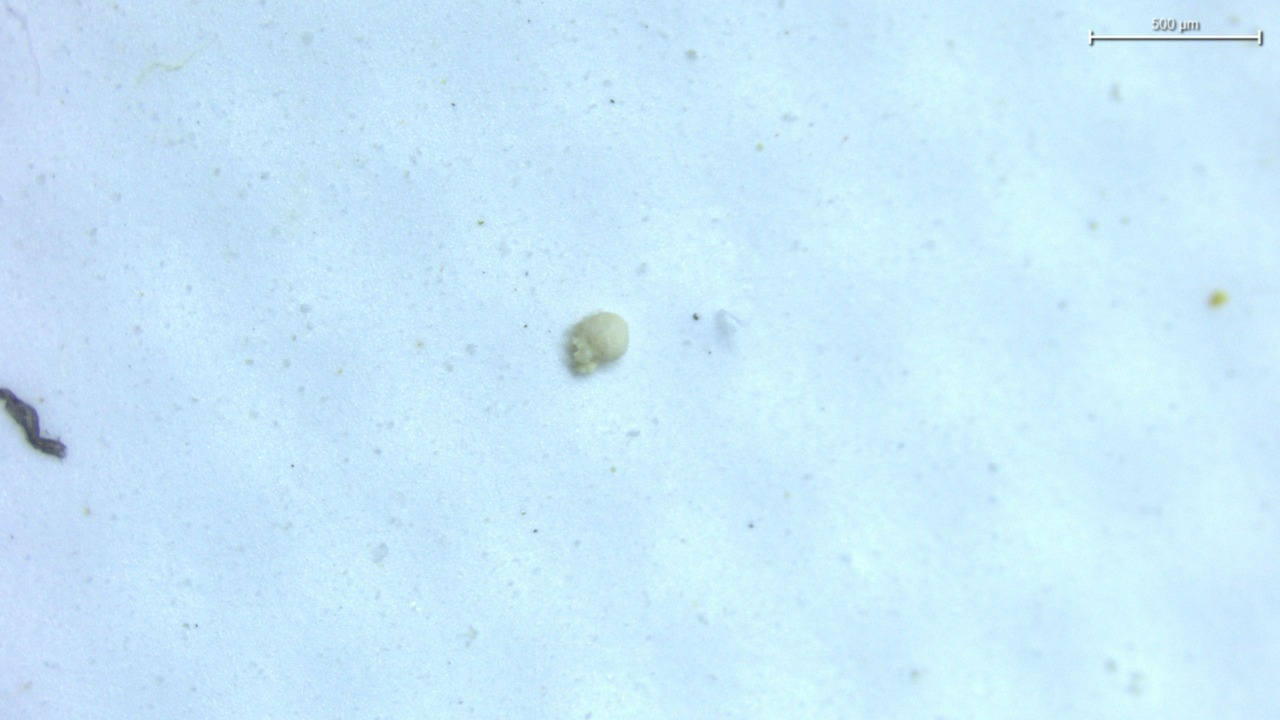microplastic_fragment: (566, 311, 629, 375)
